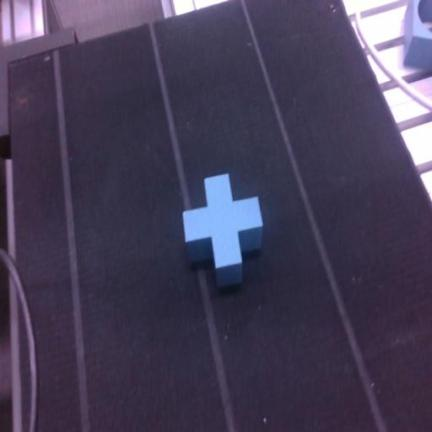cross: (183, 174, 263, 287)
